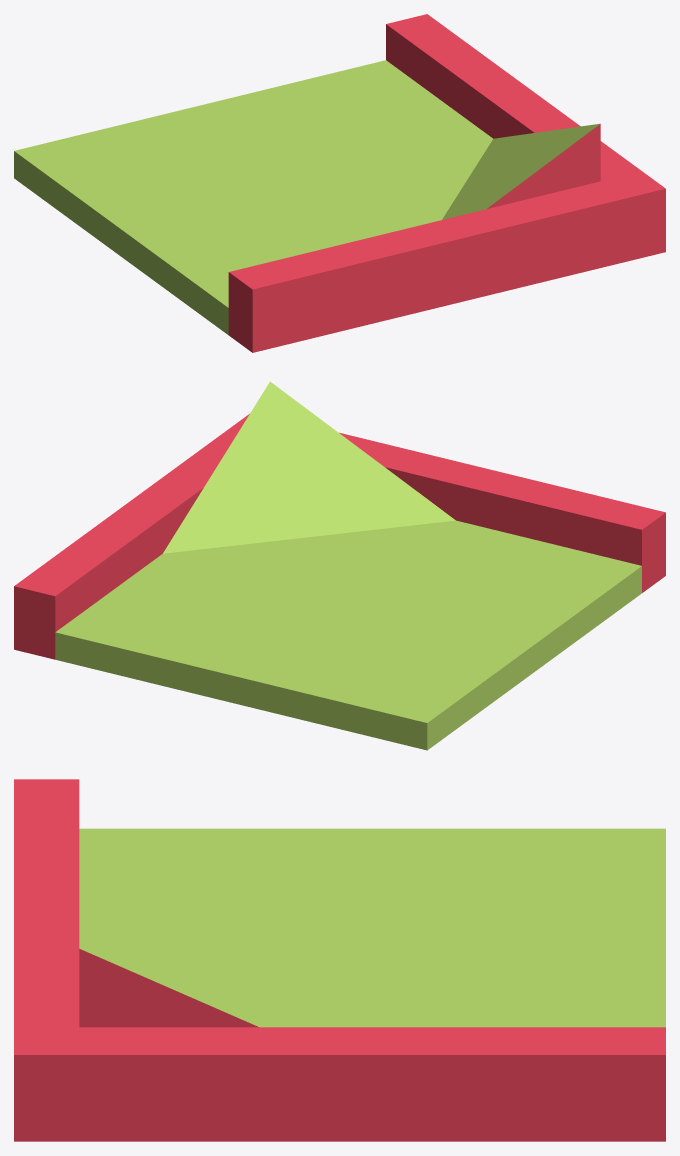
Rendered from hillCorner.fbx.
3 renders of one model, top to bottom at view 1: azimuth 30°, elevation 25°; view 2: azimuth 150°, elevation 25°; view 3: azimuth 270°, elevation 25°, orthographic. The views are drawn at different scales.
Visible parts, largest first — view 1: hillCorner; view 2: hillCorner; view 3: hillCorner.
Boxes of the visible parts, x1,y1,x2,y2 form: hillCorner: [14, 14, 665, 352]; hillCorner: [14, 381, 665, 750]; hillCorner: [14, 779, 665, 1141].
Size of the model in its own units: 10 by 2.8 by 10.
